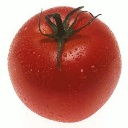tomato: (8, 7, 121, 123)
